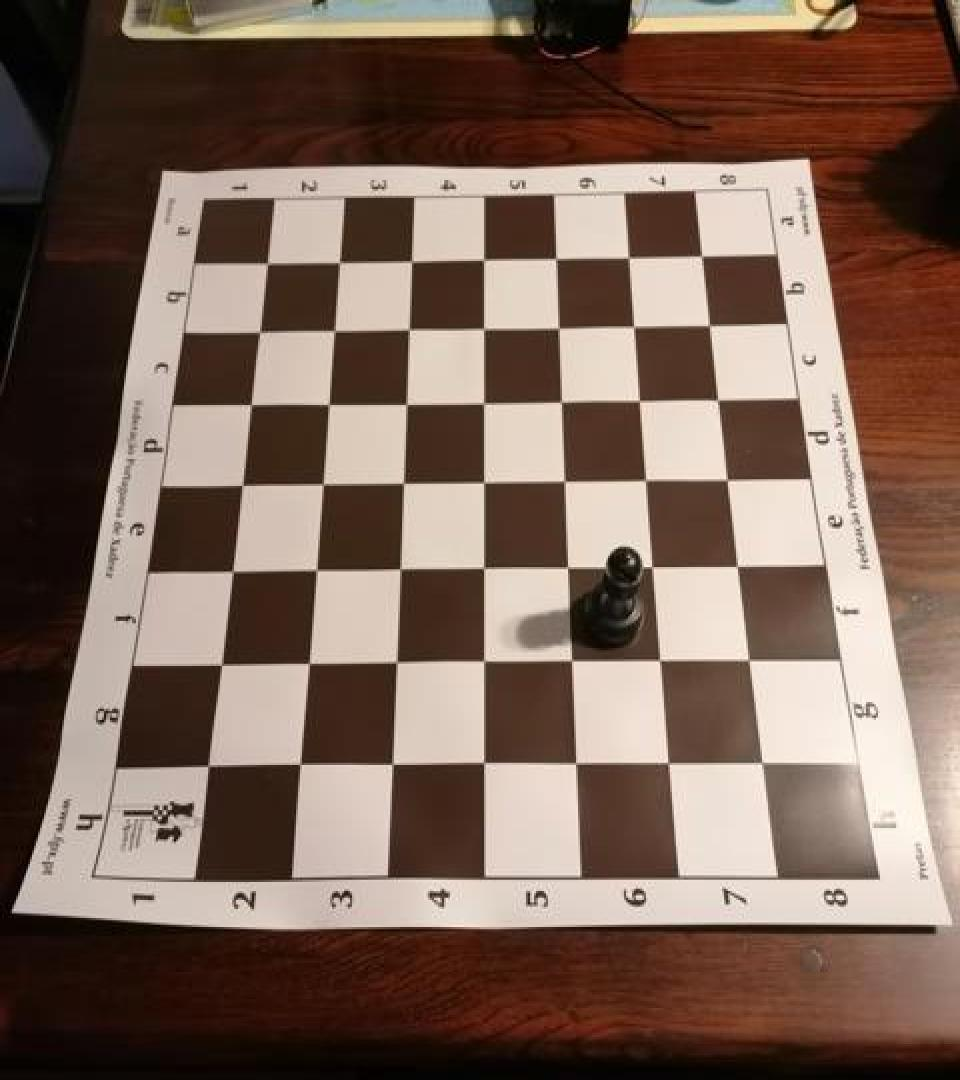xcorner: (687, 236, 719, 272), (613, 238, 645, 274), (539, 240, 571, 276), (466, 241, 498, 277), (393, 242, 425, 278), (321, 243, 353, 279), (248, 244, 280, 280), (695, 305, 727, 341), (618, 306, 650, 342), (542, 307, 574, 343), (466, 308, 498, 344), (390, 310, 422, 346), (315, 310, 347, 346), (240, 312, 272, 348), (704, 379, 736, 415), (624, 380, 656, 416), (544, 382, 576, 418), (465, 382, 497, 418), (387, 382, 419, 418), (231, 385, 263, 421), (714, 459, 746, 495), (630, 460, 662, 496), (548, 461, 580, 497), (465, 461, 497, 497), (383, 462, 415, 498), (302, 464, 334, 500), (221, 464, 253, 500), (724, 547, 756, 583), (637, 547, 669, 583), (551, 548, 583, 584), (465, 548, 497, 584), (380, 549, 412, 585), (295, 549, 327, 585), (210, 550, 242, 586), (736, 642, 768, 678), (645, 642, 677, 678), (555, 642, 587, 678), (465, 642, 497, 678), (375, 642, 407, 678), (287, 642, 319, 678), (199, 644, 231, 680), (749, 746, 781, 782), (653, 746, 685, 782), (559, 746, 591, 782), (464, 746, 496, 782), (371, 746, 403, 782), (278, 746, 310, 782), (186, 746, 218, 782), (309, 384, 341, 419)
